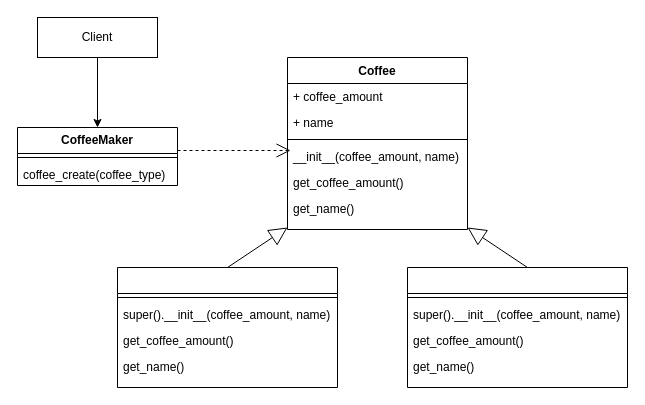
Image size: 645x405. Some labels were removed from this diagram. Here are the shapes that lost their labels. From the top down, the box of each, then its label:
(116, 266, 338, 388): Mocca
(406, 266, 628, 388): Espresso
